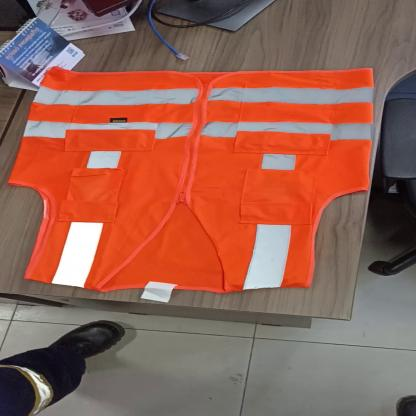colete: (4, 59, 377, 293)
